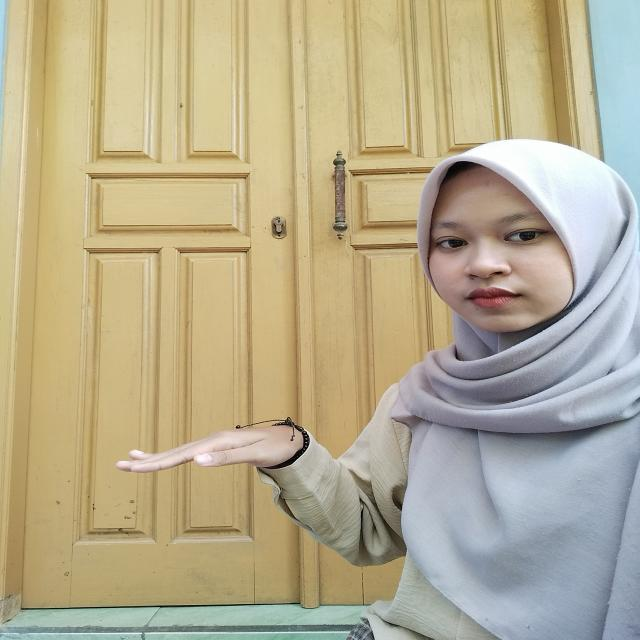adik: (100, 409, 338, 504)
